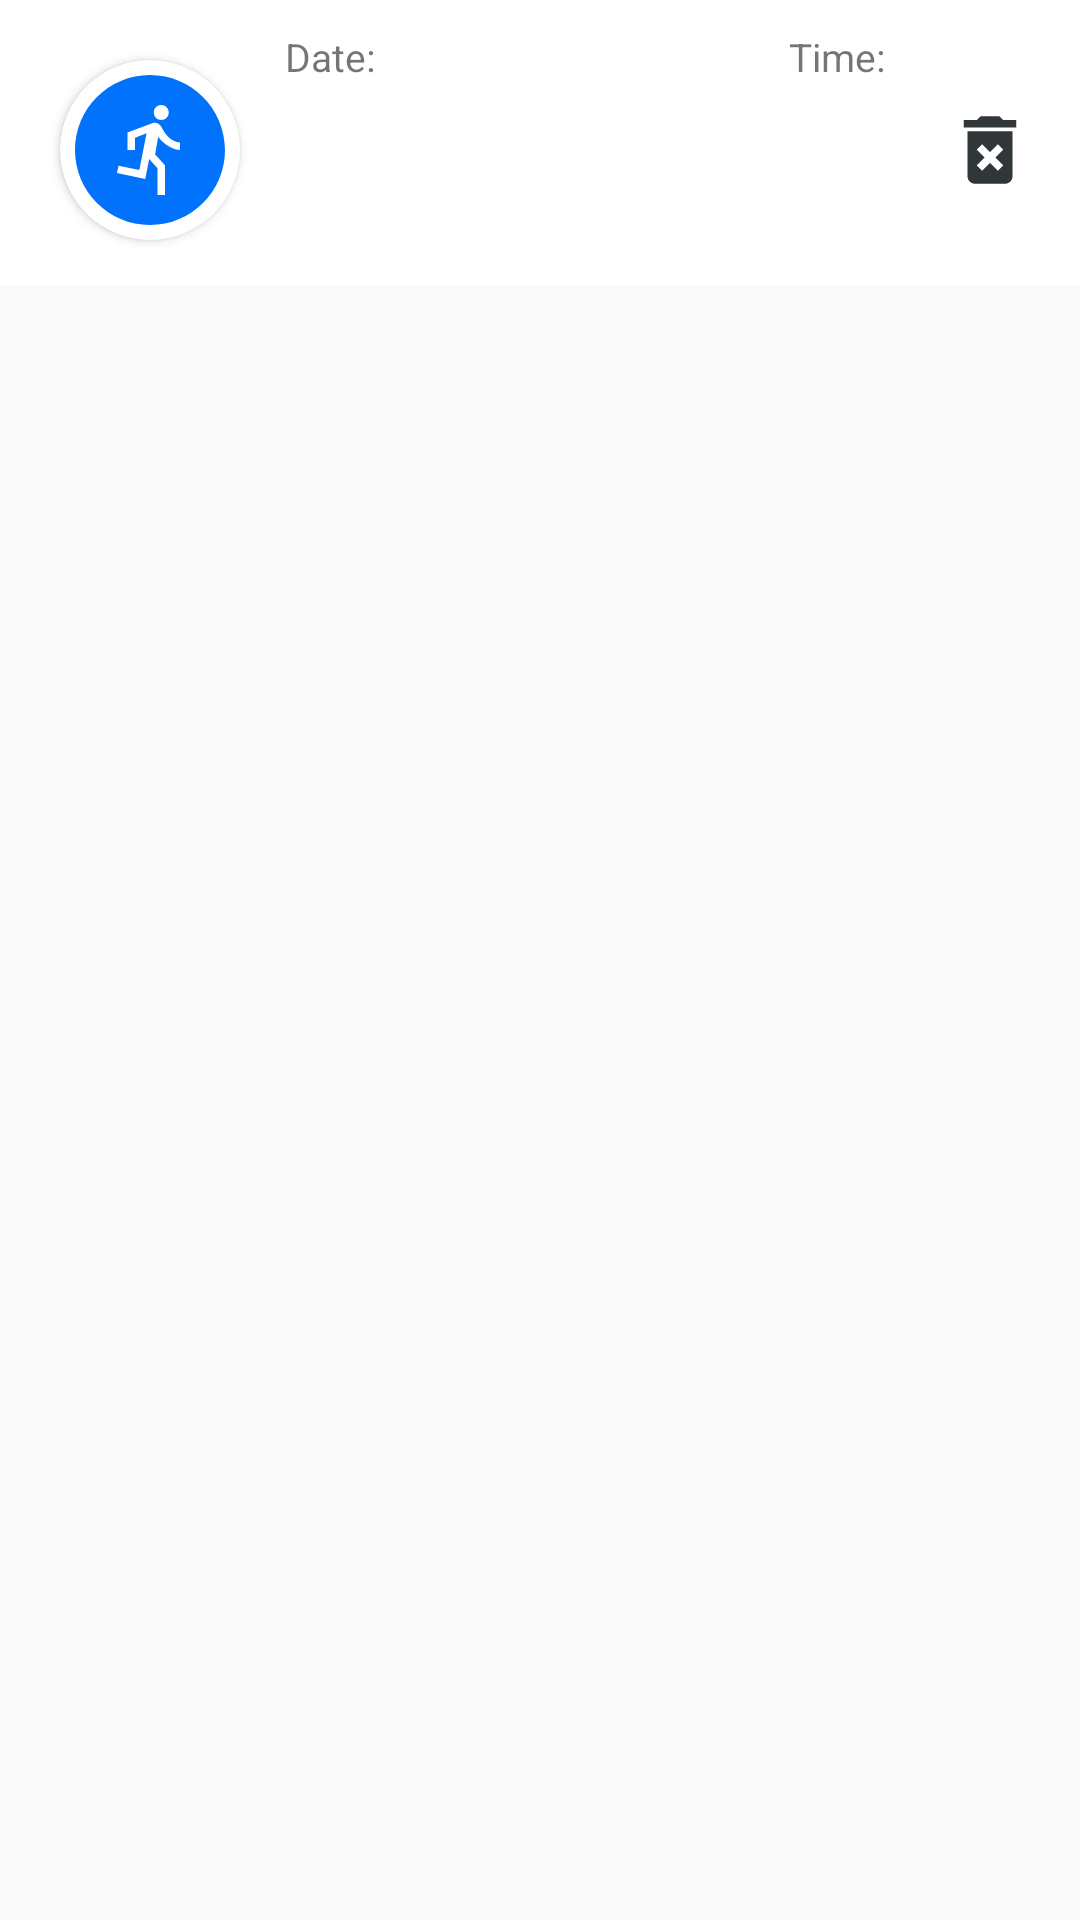

Where to tap for icons on this 1080x1920 app screen, as [x,y]:
delete forever: [990,150]
running: [142,150]
